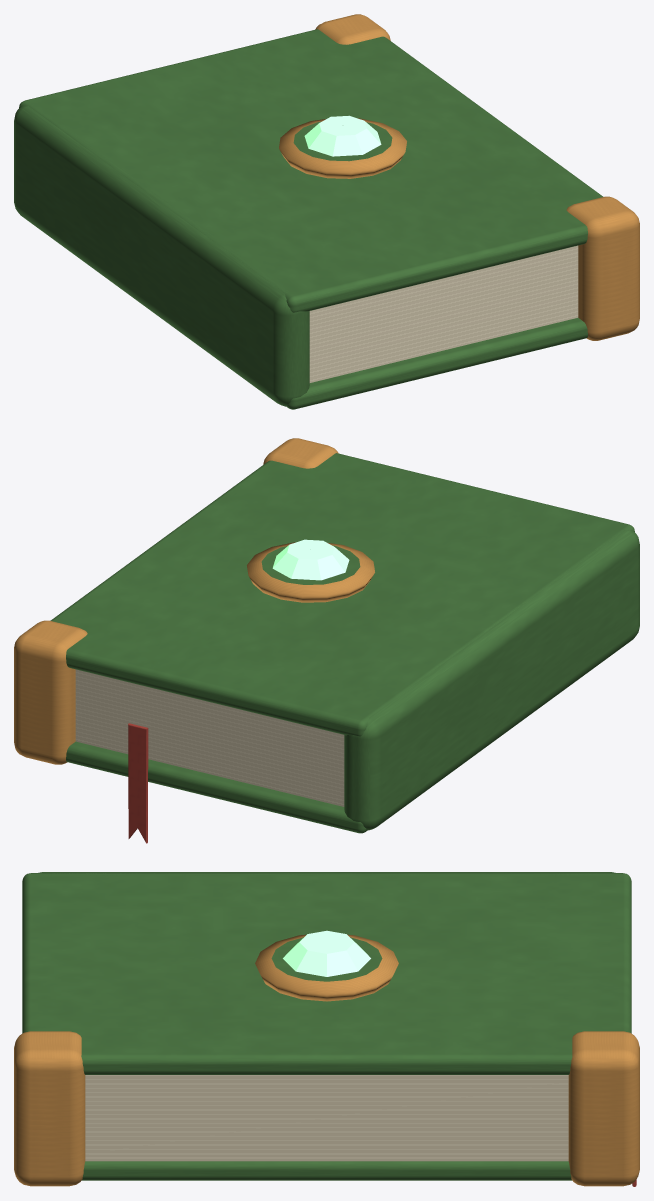
The model's file is book_haste.glb.
3 views of the same model, one above another, from view 1: azimuth 30°, elevation 25°; view 2: azimuth 150°, elevation 25°; view 3: azimuth 270°, elevation 25° (orthographic). The views are drawn at different scales.
Parts seen in each view (by area): view 1: book_haste; view 2: book_haste; view 3: book_haste.
Boxes of the visible parts, <box> form: book_haste: <box>14,14,639,409</box>; book_haste: <box>14,438,639,843</box>; book_haste: <box>14,872,639,1186</box>.
Size of the model in its own units: 0.167 by 0.088 by 0.226.
Materials: 5 (4 with a texture image).
